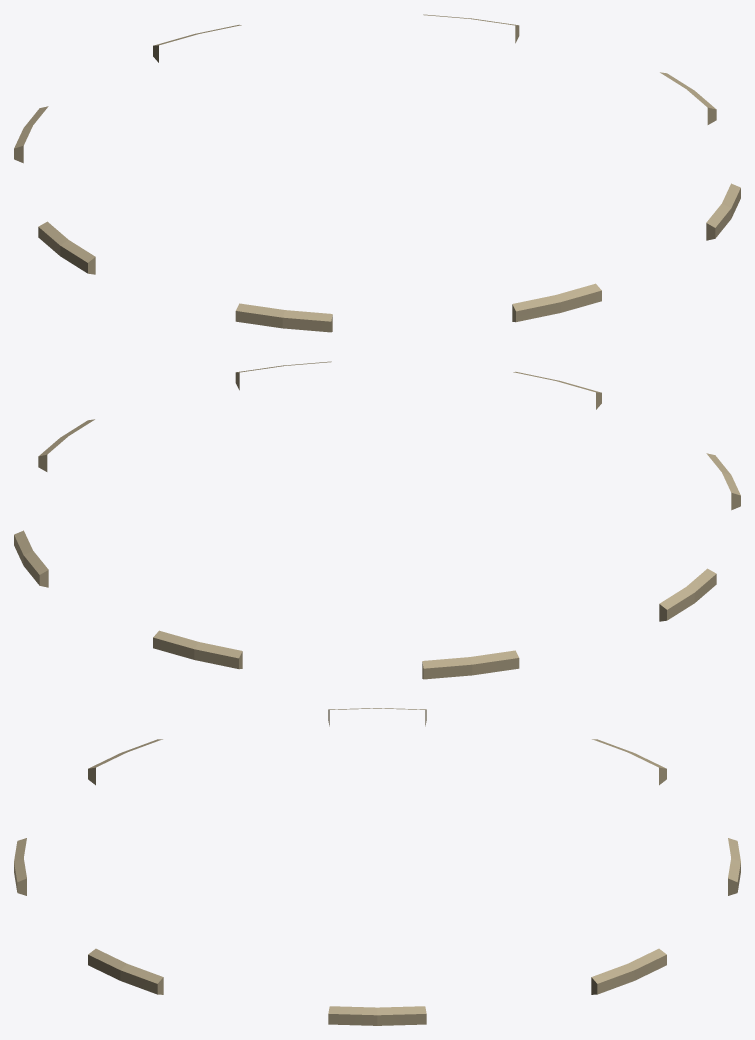
The model's file is dome.trim_middle.plaster.glb.
The picture shows the model from 3 angles, top to bottom: view 1: azimuth 30°, elevation 25°; view 2: azimuth 150°, elevation 25°; view 3: azimuth 270°, elevation 25°; orthographic projection.
Visible parts, largest first — view 1: dome_trim_middle_plaster; view 2: dome_trim_middle_plaster; view 3: dome_trim_middle_plaster.
Part boxes in pixels (x1=…): dome_trim_middle_plaster: x1=14, y1=14, x2=740, y2=332; dome_trim_middle_plaster: x1=14, y1=361, x2=740, y2=679; dome_trim_middle_plaster: x1=14, y1=708, x2=740, y2=1025.
Size of what is drawn, in the model's own units: 7.4 by 0.2 by 7.4.
